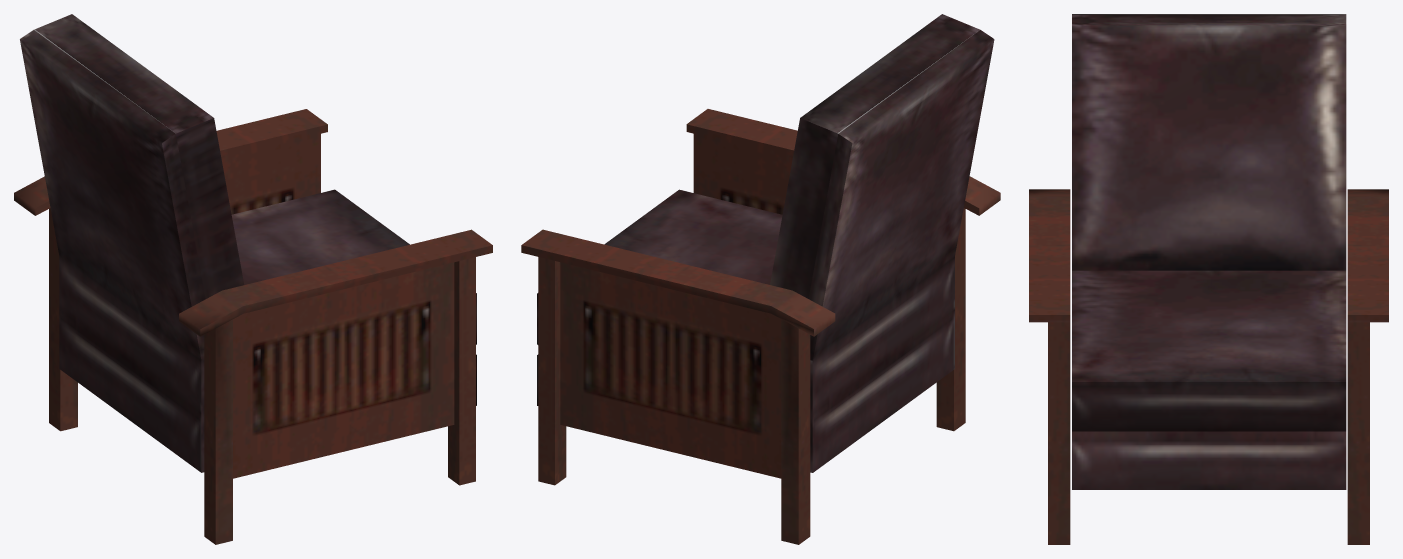
Rendered from Furniture_Chair3.fbx.
3 views of the same model, side by side, from view 1: azimuth 30°, elevation 25°; view 2: azimuth 150°, elevation 25°; view 3: azimuth 270°, elevation 25° (orthographic). The views are drawn at different scales.
Visible parts, largest first — view 1: Empty_Mesh; view 2: Empty_Mesh; view 3: Empty_Mesh.
Boxes of the visible parts, x1,y1,x2,y2 form: Empty_Mesh: (14, 14, 492, 544); Empty_Mesh: (521, 14, 1000, 544); Empty_Mesh: (1029, 14, 1388, 544).
Bounding box in the file's own units: 70157 × 88316 × 71840.
